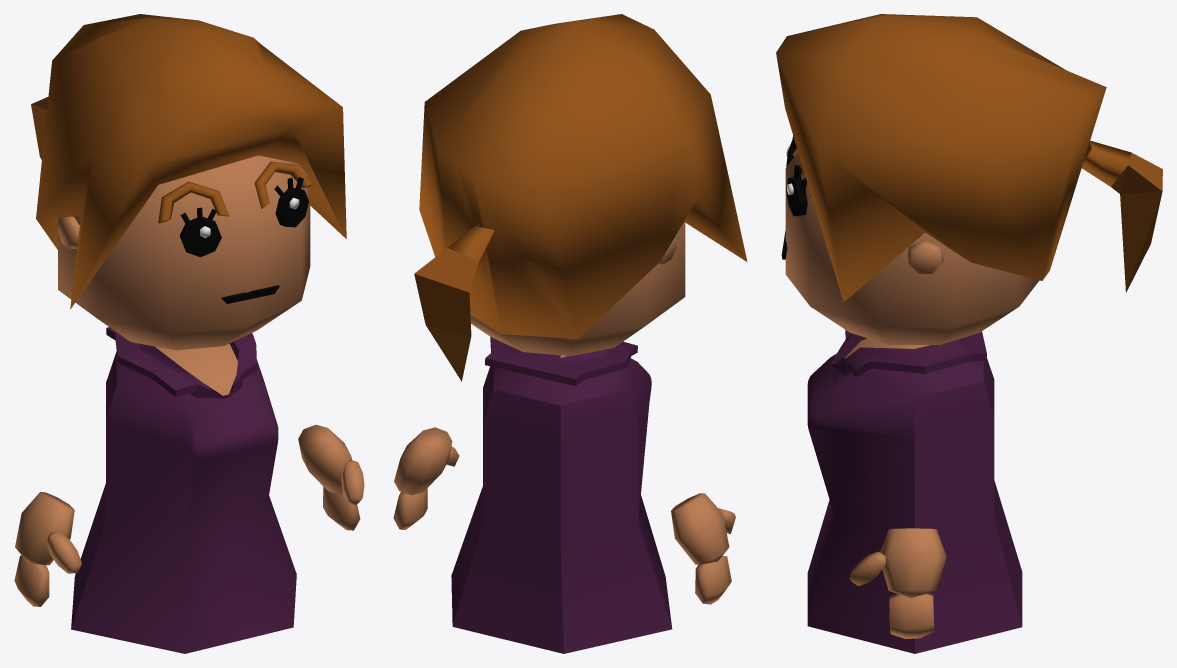
File: mujer_5.fbx
The picture shows the model from 3 angles, left to right: view 1: azimuth 30°, elevation 25°; view 2: azimuth 150°, elevation 25°; view 3: azimuth 270°, elevation 25°; orthographic projection. The views are drawn at different scales.
Visible parts, largest first — view 1: Torso, Pelo, Cabeza, Palma Izquerda001, Palma Izquerda, Cuerpo, Ojo Derecho, Dedos Izquierdos001, Ojo Izquierdo, Ceja Derecha, Dedos Izquierdos, DedoPulga Izquierdo001 (+3 smaller); view 2: Pelo, Torso, Cabeza, Palma Izquerda001, Palma Izquerda, Dedos Izquierdos001, Dedos Izquierdos; view 3: Pelo, Torso, Cabeza, Palma Izquerda, Dedos Izquierdos, Oreja Derecha001, DedoPulga Izquierdo, Ojo Izquierdo.
Part boxes in pixels (bbox=[...]): Torso: bbox=[71, 327, 296, 653]; Pelo: bbox=[31, 14, 346, 309]; Cabeza: bbox=[58, 155, 310, 350]; Palma Izquerda001: bbox=[15, 492, 74, 565]; Palma Izquerda: bbox=[298, 425, 352, 494]; Cuerpo: bbox=[155, 344, 237, 395]; Ojo Derecho: bbox=[179, 207, 221, 257]; Dedos Izquierdos001: bbox=[14, 555, 49, 606]; Ojo Izquierdo: bbox=[274, 177, 308, 227]; Ceja Derecha: bbox=[158, 181, 229, 223]; Dedos Izquierdos: bbox=[323, 487, 360, 530]; DedoPulga Izquierdo001: bbox=[46, 532, 81, 573]; Pelo: bbox=[414, 14, 747, 381]; Torso: bbox=[451, 337, 672, 653]; Cabeza: bbox=[470, 222, 685, 356]; Palma Izquerda001: bbox=[671, 493, 729, 564]; Palma Izquerda: bbox=[394, 427, 452, 495]; Dedos Izquierdos001: bbox=[695, 556, 731, 604]; Dedos Izquierdos: bbox=[393, 488, 427, 529]; Pelo: bbox=[776, 14, 1162, 302]; Torso: bbox=[807, 330, 1022, 653]; Cabeza: bbox=[785, 153, 1039, 344]; Palma Izquerda: bbox=[880, 528, 946, 598]; Dedos Izquierdos: bbox=[889, 593, 934, 638]; Oreja Derecha001: bbox=[905, 240, 943, 273]; DedoPulga Izquierdo: bbox=[849, 551, 885, 586]; Ojo Izquierdo: bbox=[786, 165, 807, 216].
Size of the model in its own units: 1.41 by 2.35 by 1.42.
